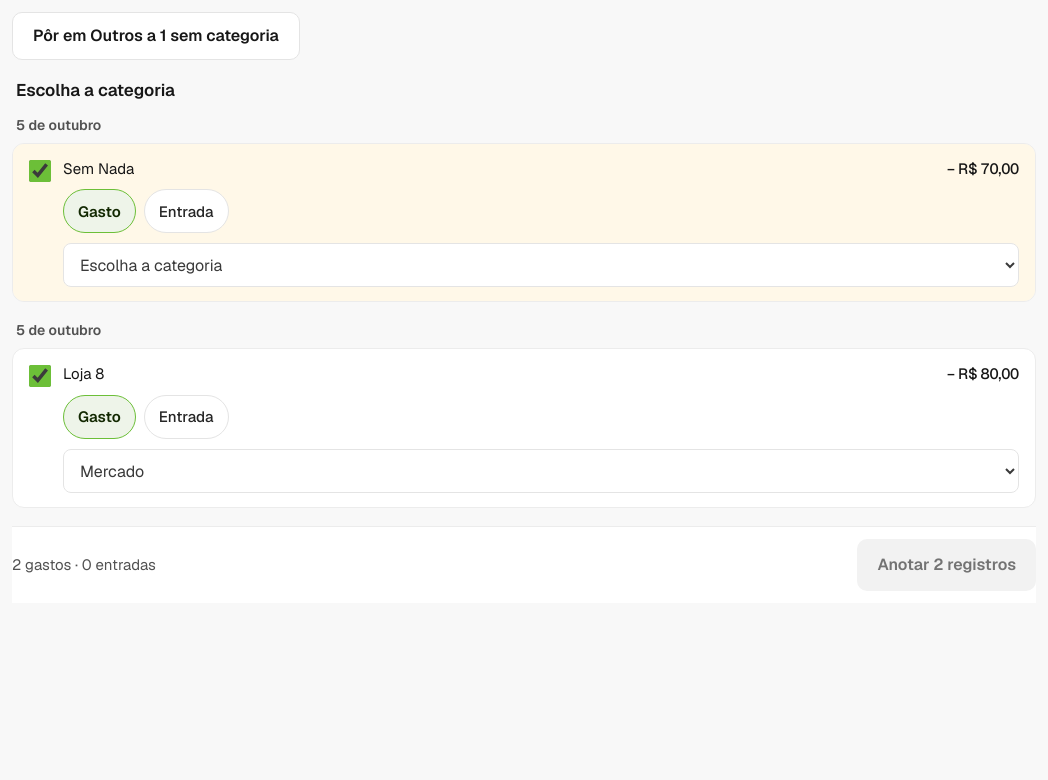
Test: desmarcar a única linha sem categoria também libera o botão; nenhuma marcada desliga
Expected: the button "Anotar 2 registros" is disabled, [857, 539, 1036, 591]
Click the checkbox labelled "Sem Nada − R$ 70,00". click: x=40, y=171
box: [29, 160, 51, 182]
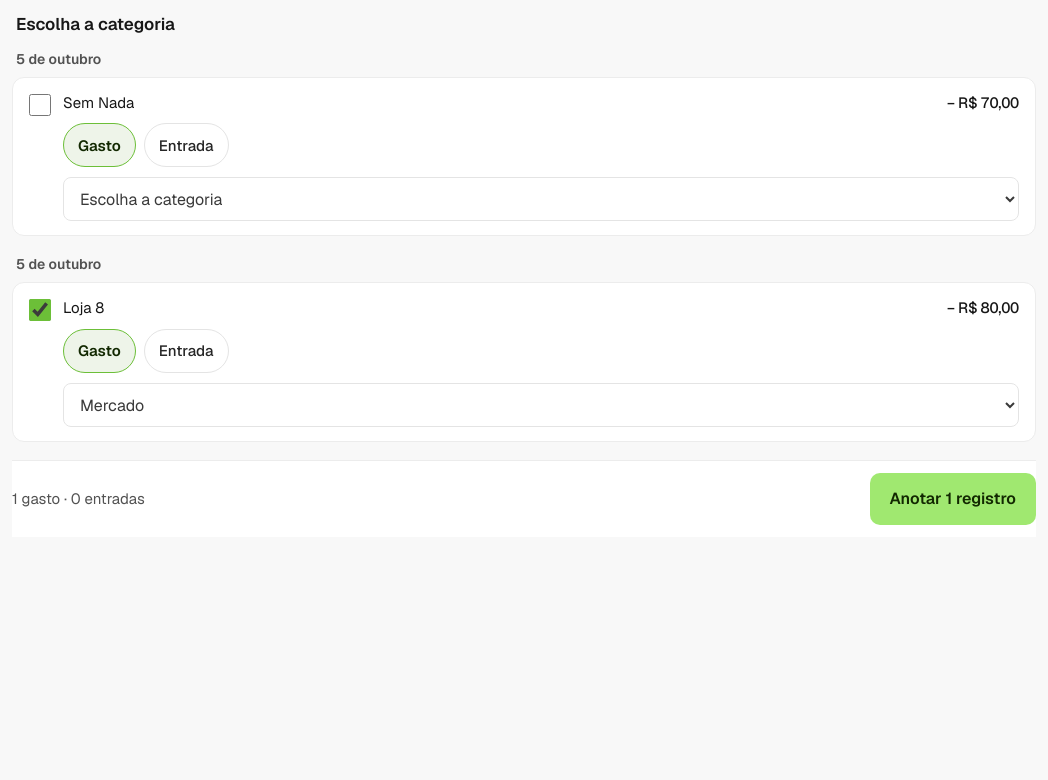
Result: the button "Anotar 1 registro" is enabled at [870, 473, 1036, 525]
Result: the text "1 gasto · 0 entradas" is shown at [12, 488, 145, 510]
Result: the button "Anotar 1 registro" is shown at [870, 473, 1036, 525]
Click the checkbox labelled "Loja 8 − R$ 80,00". click: x=40, y=310
box: [29, 299, 51, 321]
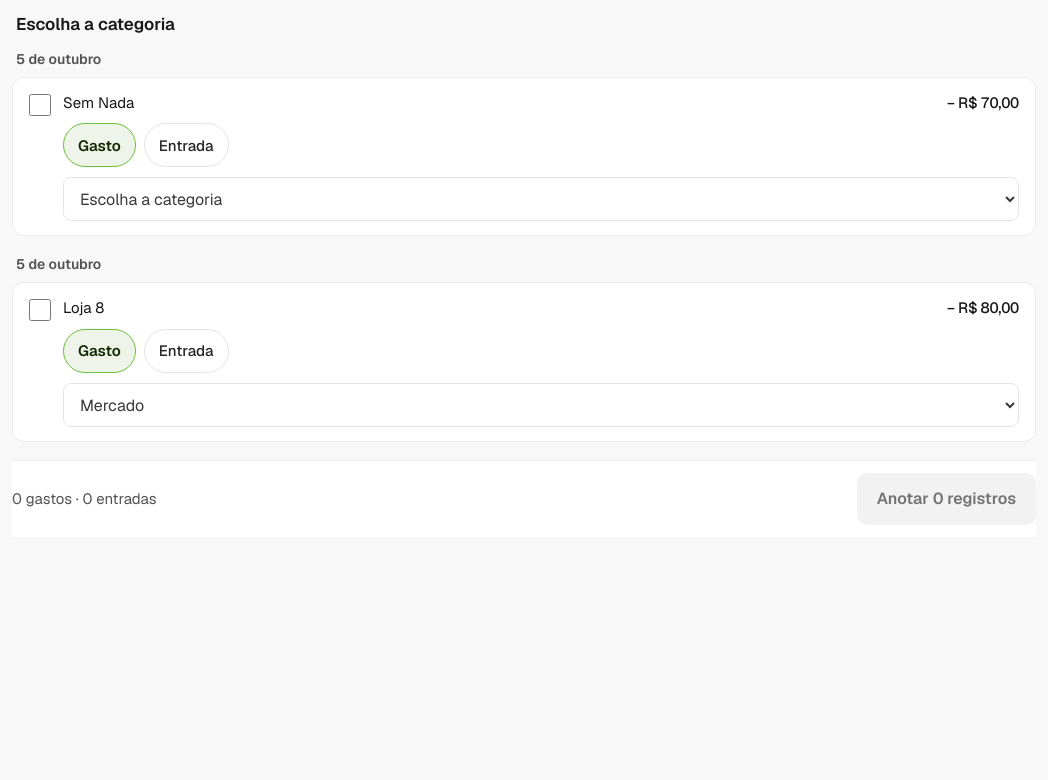
Result: the button "Anotar 0 registros" is disabled at [857, 473, 1036, 525]
